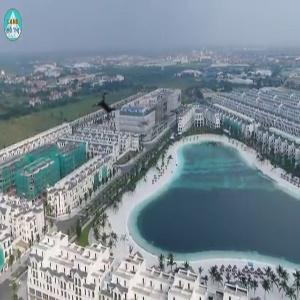drone: (77, 74, 141, 138)
